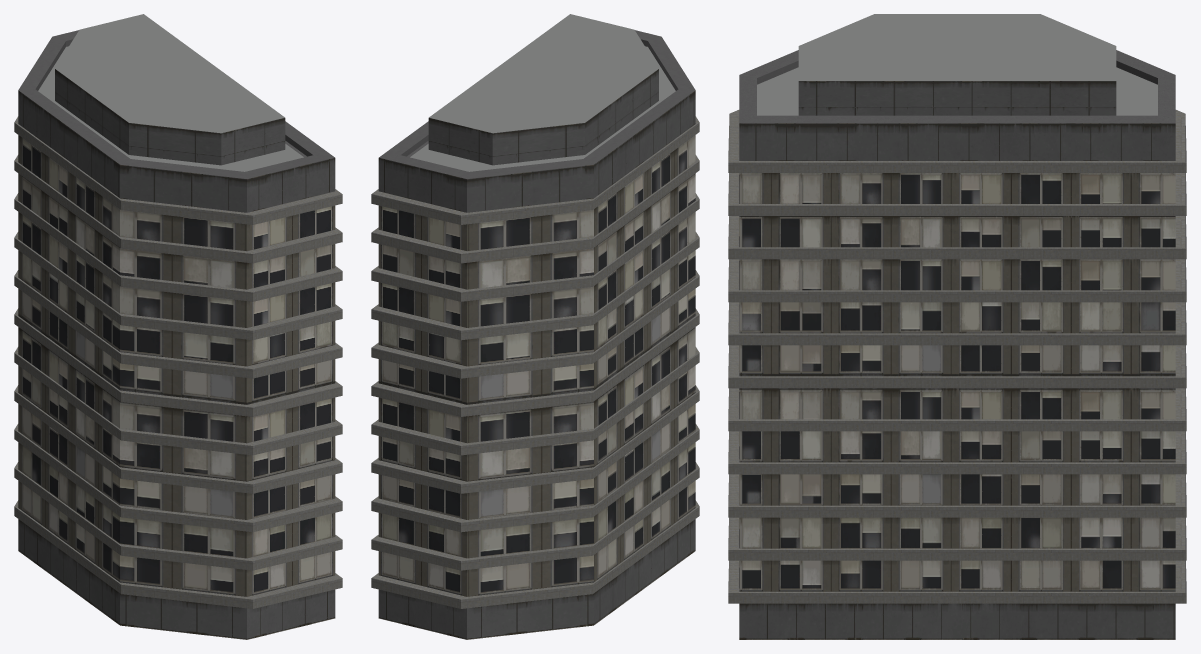
Rendered from SM_Building3.FBX.
3 views of the same model, side by side, from view 1: azimuth 30°, elevation 25°; view 2: azimuth 150°, elevation 25°; view 3: azimuth 270°, elevation 25° (orthographic). The views are drawn at different scales.
Visible parts, largest first — view 1: SM_Building3; view 2: SM_Building3; view 3: SM_Building3.
Boxes of the visible parts, <box> form: SM_Building3: <box>14,14,342,639</box>; SM_Building3: <box>371,14,699,639</box>; SM_Building3: <box>728,14,1186,639</box>.
Size of what is drawn, in the model's own units: 3106 by 6367 by 8365.
